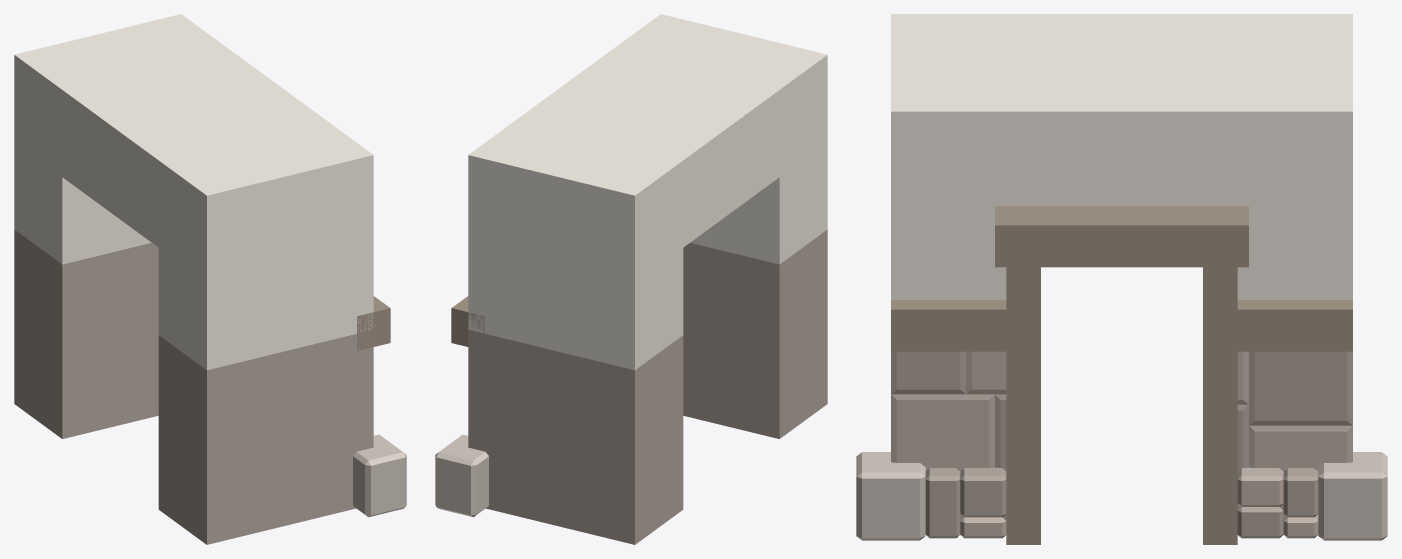
Rendered from EntradaPiedra1.glb.
3 renders of one model, left to right at view 1: azimuth 30°, elevation 25°; view 2: azimuth 150°, elevation 25°; view 3: azimuth 270°, elevation 25°, orthographic. The views are drawn at different scales.
Visible parts, largest first — view 1: object4, object7, object5, object2, object6; view 2: object4, object5, object7, object3, object8; view 3: object4, object1, object5, object7, object6, object8, object2, object3, object10, object9.
Boxes of the visible parts, <box> form: object4: <box>14,14,373,370</box>; object7: <box>158,334,373,544</box>; object5: <box>14,229,158,438</box>; object2: <box>353,434,406,517</box>; object6: <box>357,296,390,350</box>; object4: <box>468,14,827,370</box>; object5: <box>468,329,683,544</box>; object7: <box>683,229,827,438</box>; object3: <box>435,434,488,517</box>; object8: <box>451,296,484,347</box>; object4: <box>891,14,1352,299</box>; object1: <box>995,206,1248,544</box>; object5: <box>1237,351,1352,471</box>; object7: <box>891,351,1006,471</box>; object6: <box>891,300,1006,351</box>; object8: <box>1237,300,1352,351</box>; object2: <box>856,452,925,540</box>; object3: <box>1318,452,1387,540</box>; object10: <box>925,467,1006,538</box>; object9: <box>1237,467,1318,538</box>.
Size of the model in its own units: 1.2 by 2 by 2.3.
